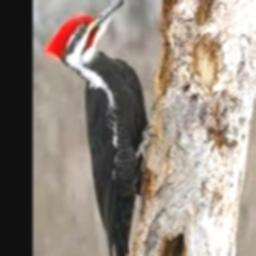Woodpecker: (44, 0, 149, 256)
